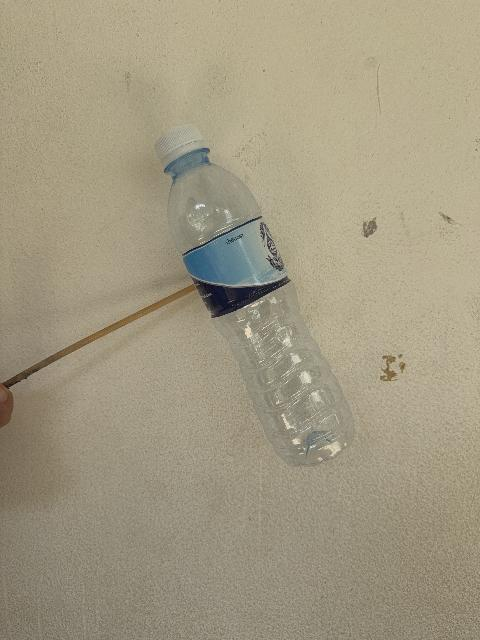bottle: (155, 125, 354, 466)
